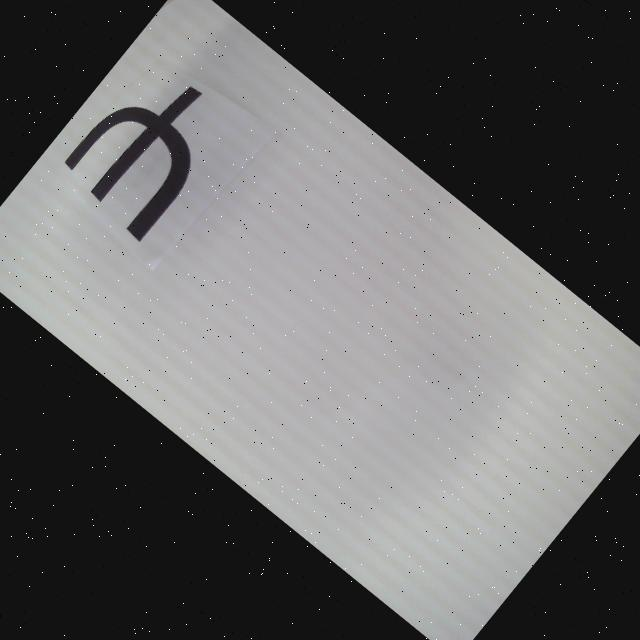PSI: (55, 53, 238, 244)
